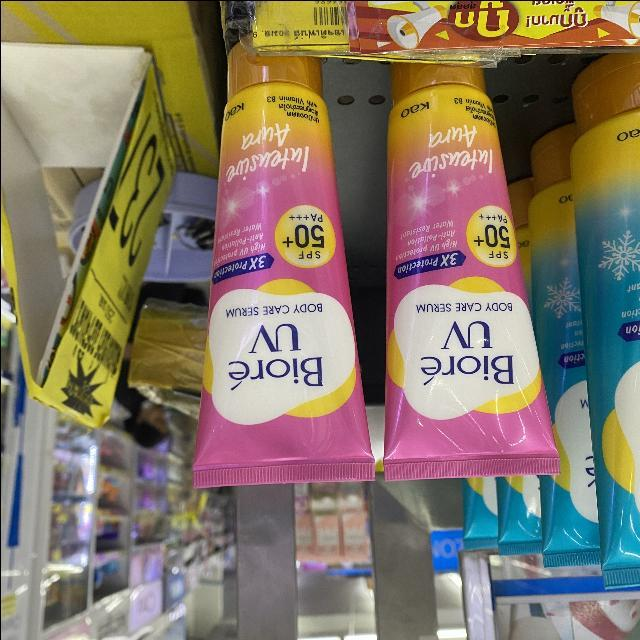Squeeze Tube: (170, 26, 579, 515), (375, 42, 575, 490), (189, 47, 378, 486)
